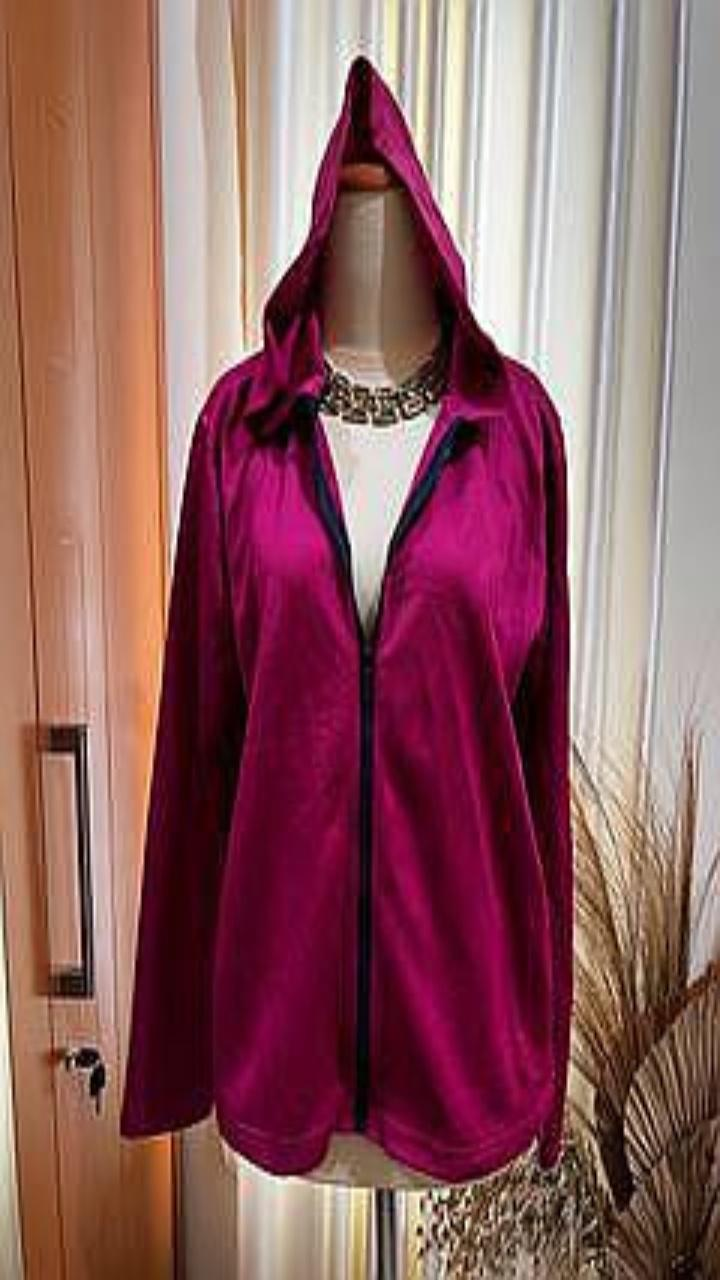Sports_Jacket: (121, 55, 572, 1181)
